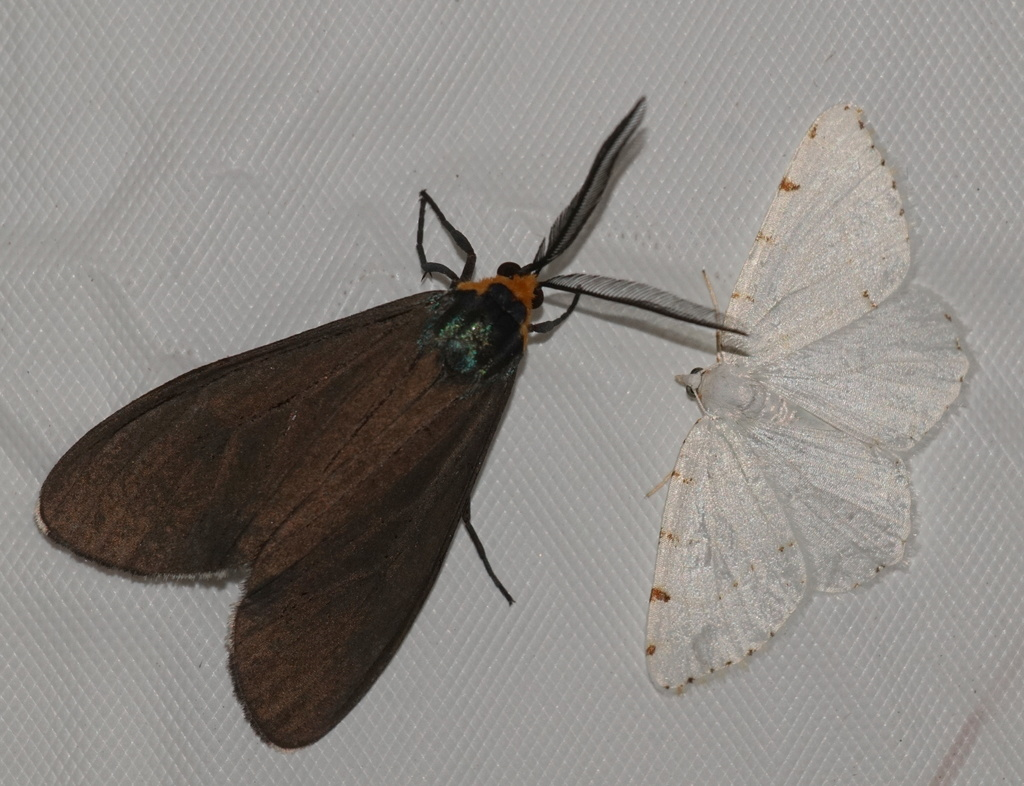Butterfly: (635, 107, 982, 713)
